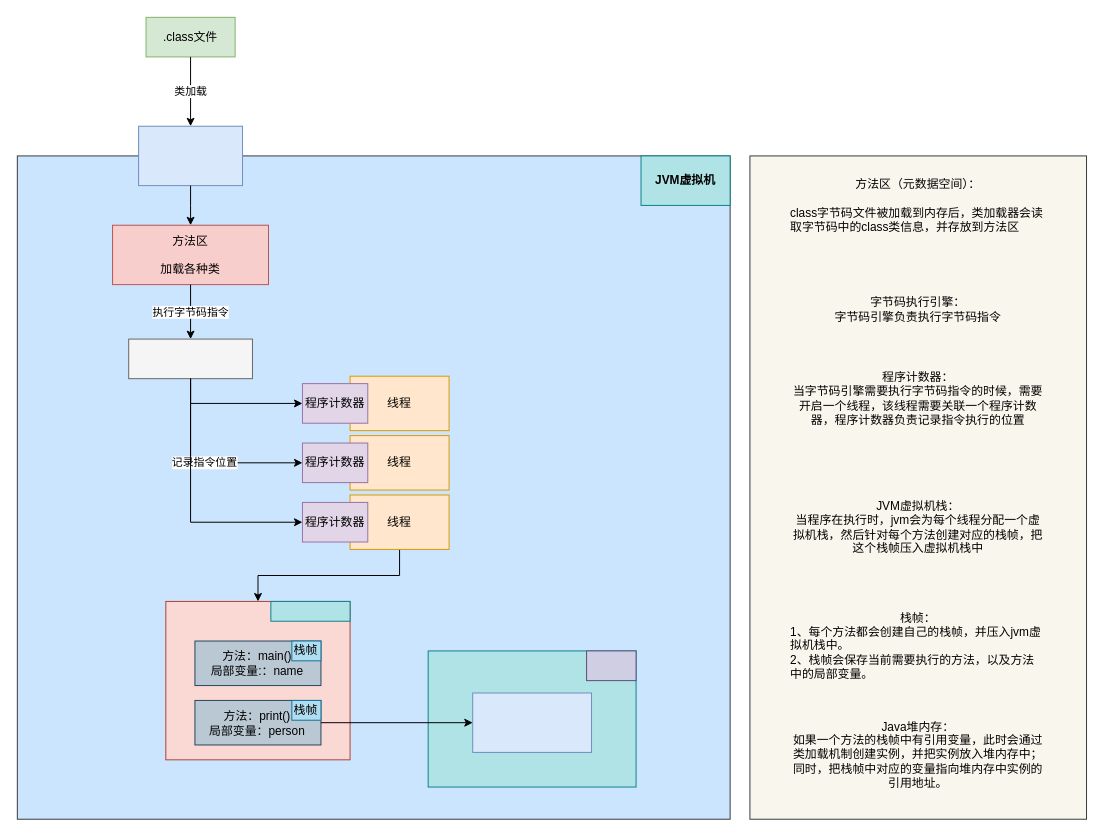
The diagram is 1104 pixels wide and 837 high, and some of its shapes have lost their labels. The centre of each missing label's shape, as x and y in pixels:
"JVM虚拟机栈" belongs at pixel 310 610.
"Persion对象实例" belongs at pixel 532 722.
"堆内存" belongs at pixel 611 665.
"字节码执行引擎" belongs at pixel 190 358.
"类加载器" belongs at pixel 190 155.
